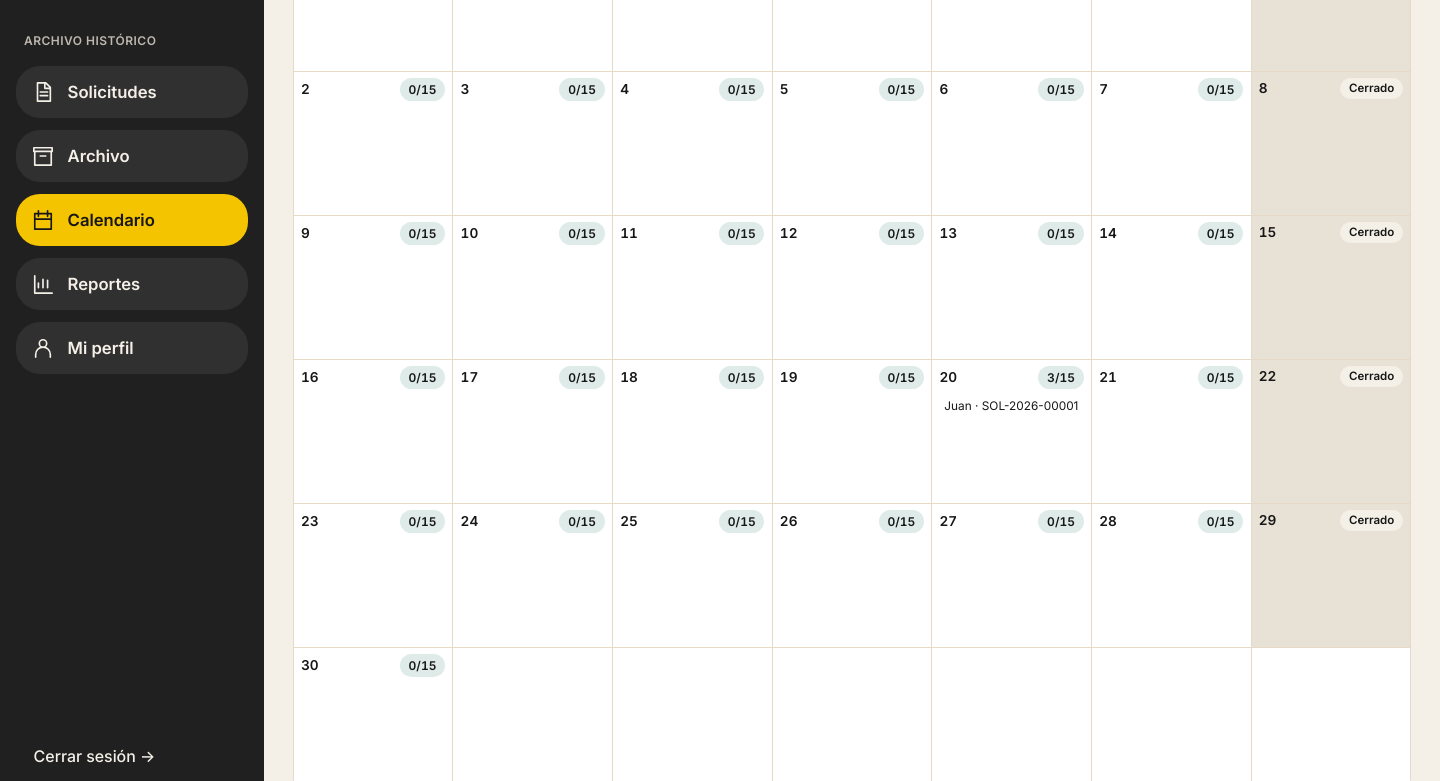
it: AppointmentsCalendarPage › lets staff reschedule a selected appointment from the calendar (HU-21)
(page scrolled)
Click the button with aria-label "acta de fundación de la villa".
click(1012, 406)  # box [940,394,1084,418]
(page scrolled)
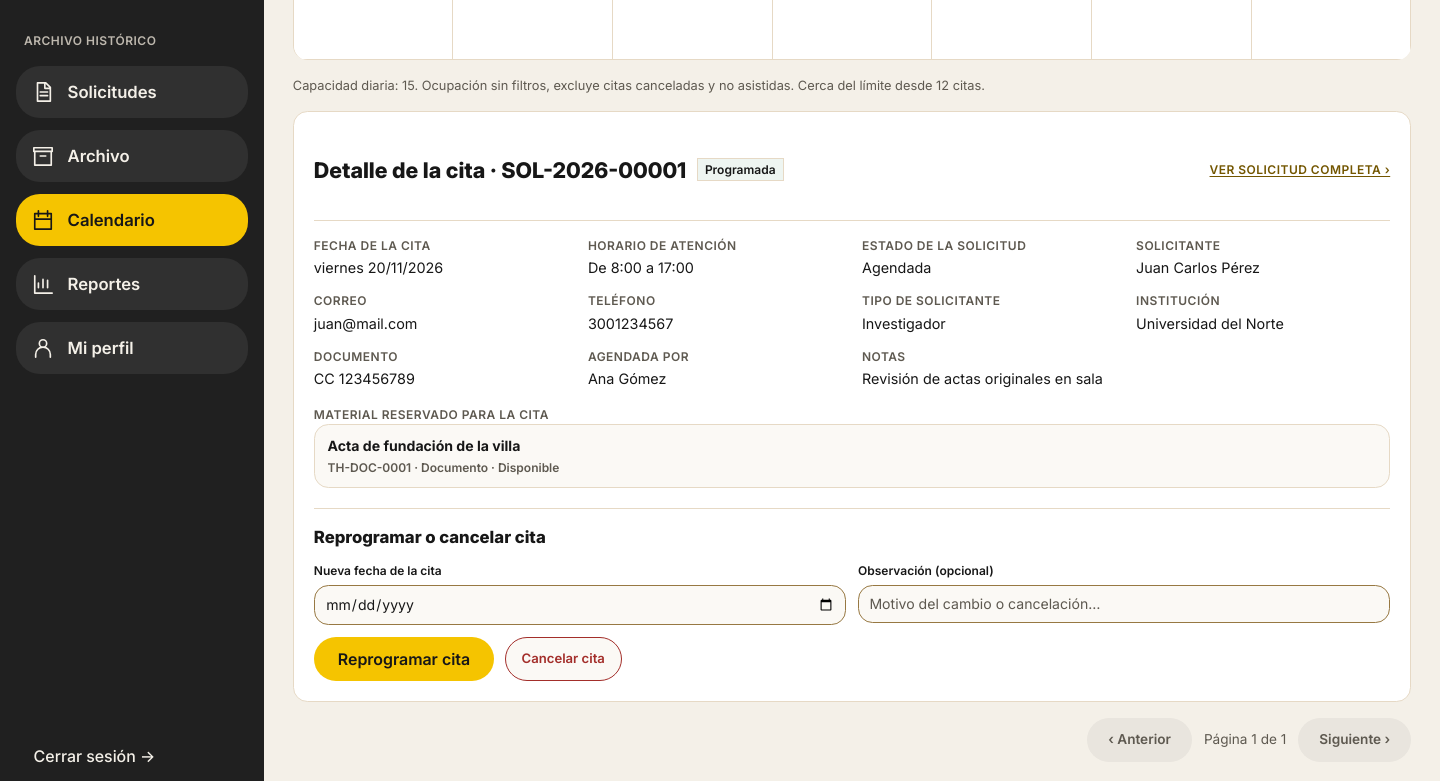
Type "2026-11-24" into the date field labelled "Nueva fecha de la cita".
click(580, 605); type("2026-11-24")  # box [314,585,846,625]
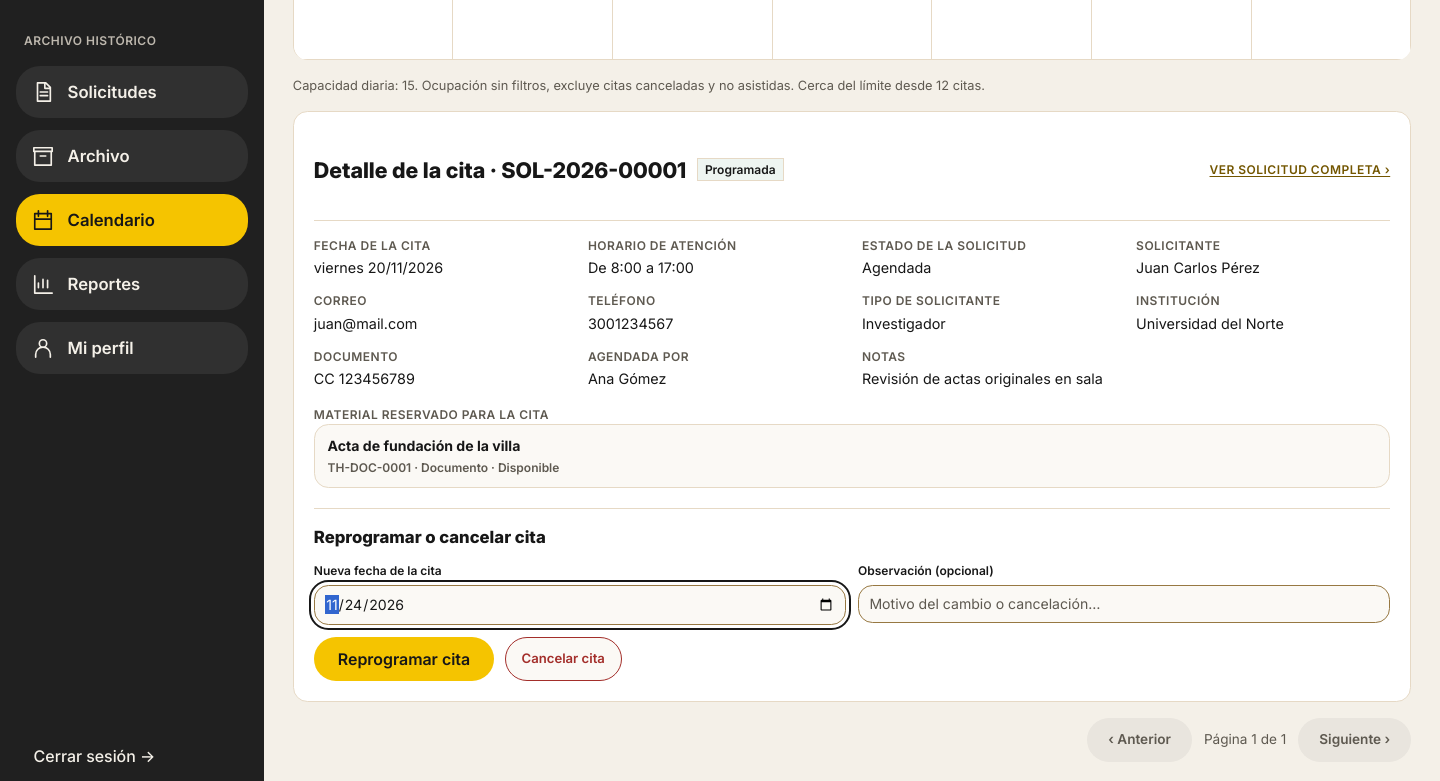
Click the button "Reprogramar cita".
click(404, 659)  # box [314,637,494,681]
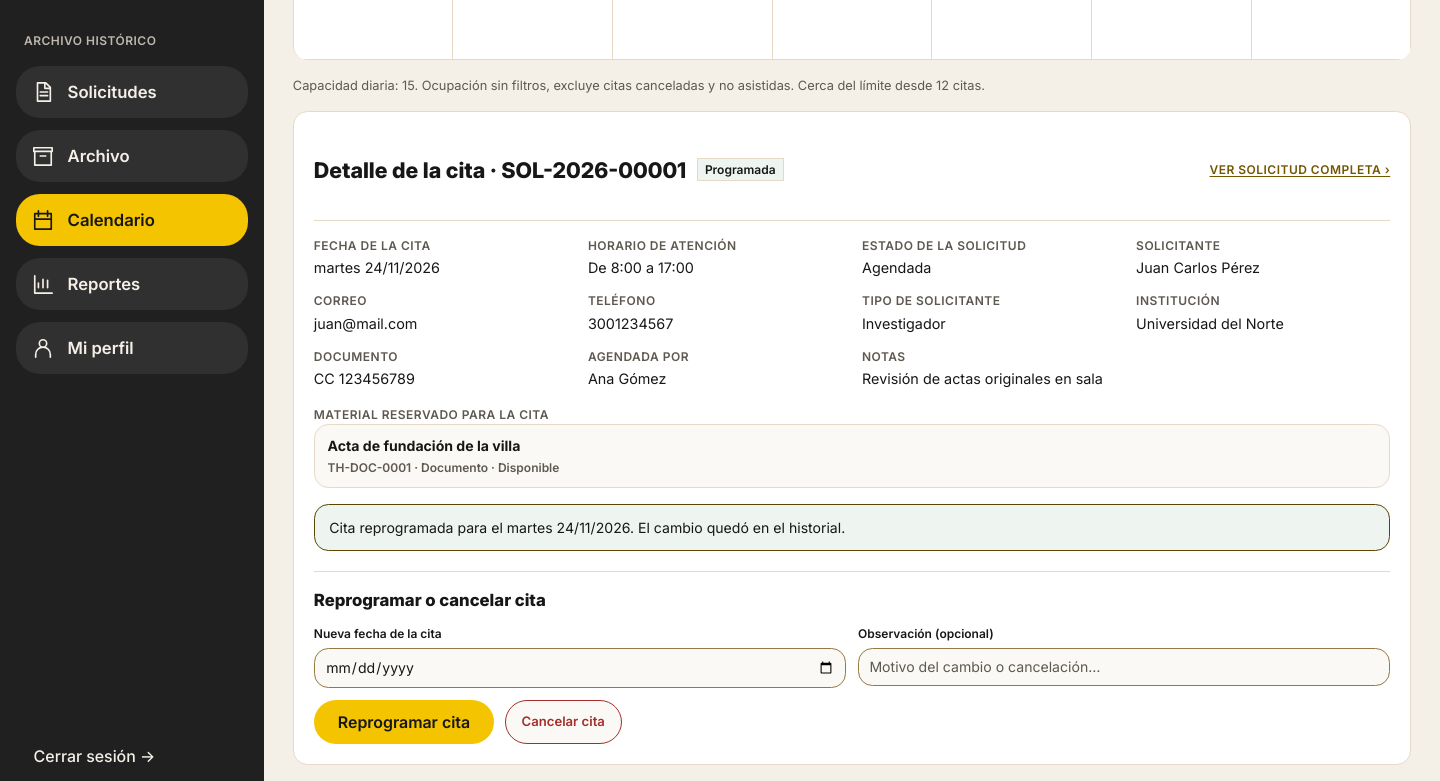
Expected: the message shows "Cita reprogramada para el martes 24/11/2026", [329,519,845,536]
Expected: the text "martes 24/11/2026" is shown, [314,259,440,276]
